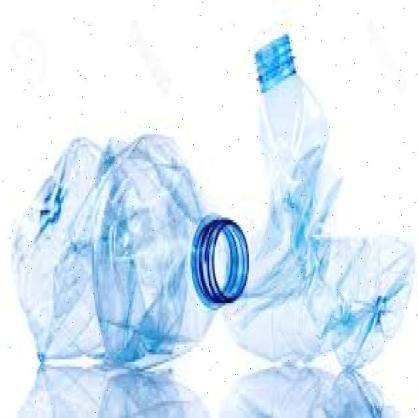bottle: (226, 33, 416, 365), (9, 124, 248, 378)
